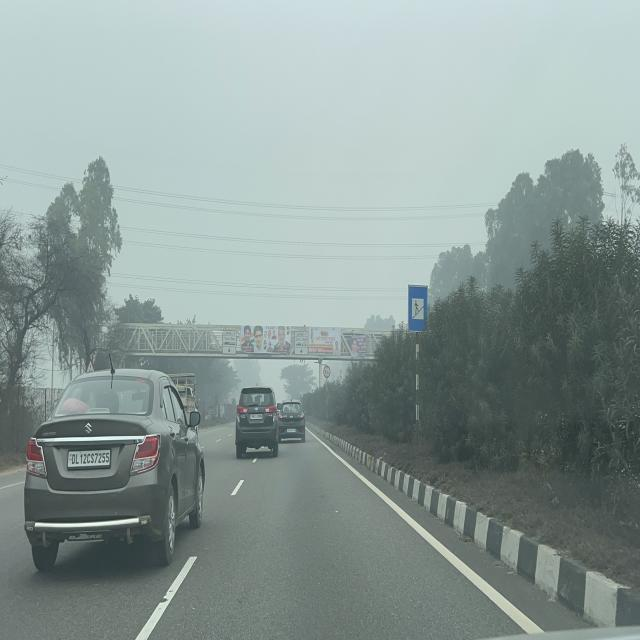INFORMATION: (408, 285, 428, 333)
